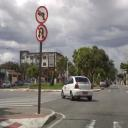NoVirarEsquerda: (35, 6, 48, 24)
NoVirarU: (35, 24, 48, 43)
